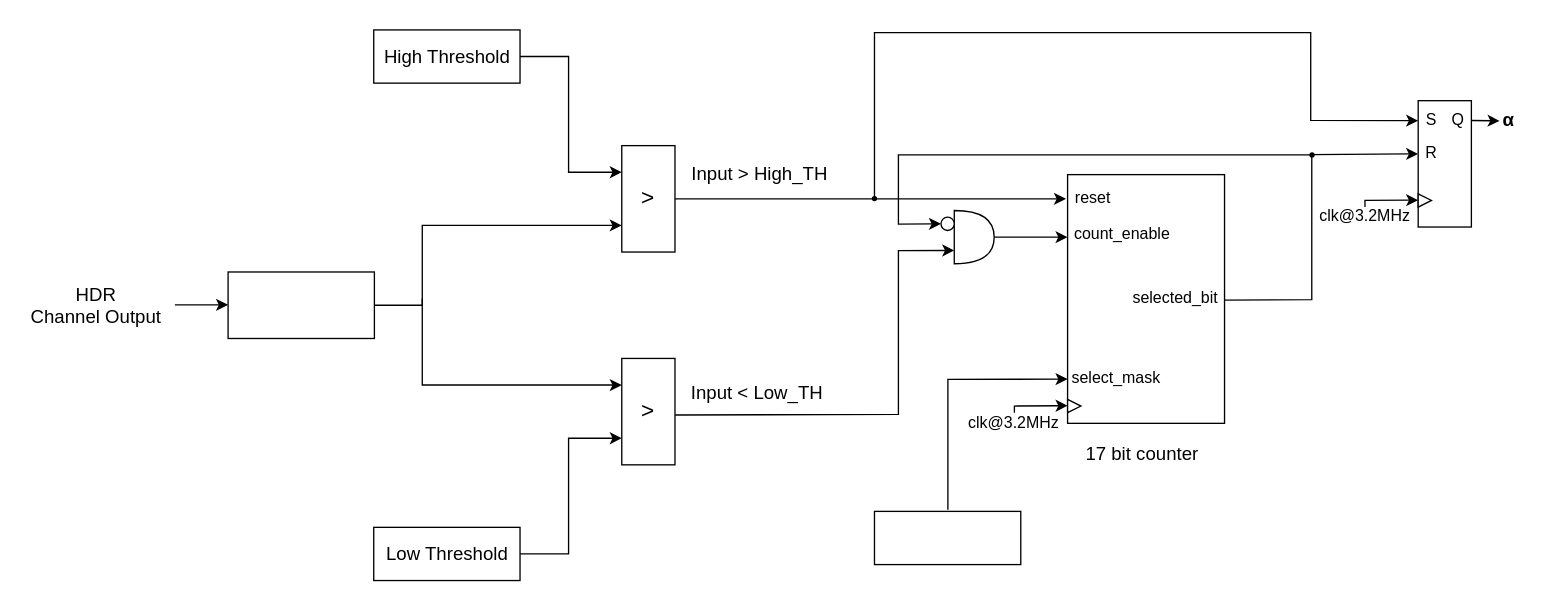
This 1544x604 diagram has some shape labels left out. The shapes that lost their labels are listed below. From the top down, each one's centre as x and y in pixels, then its label:
(300,304): ABS
(947,537): MASK SELECT
